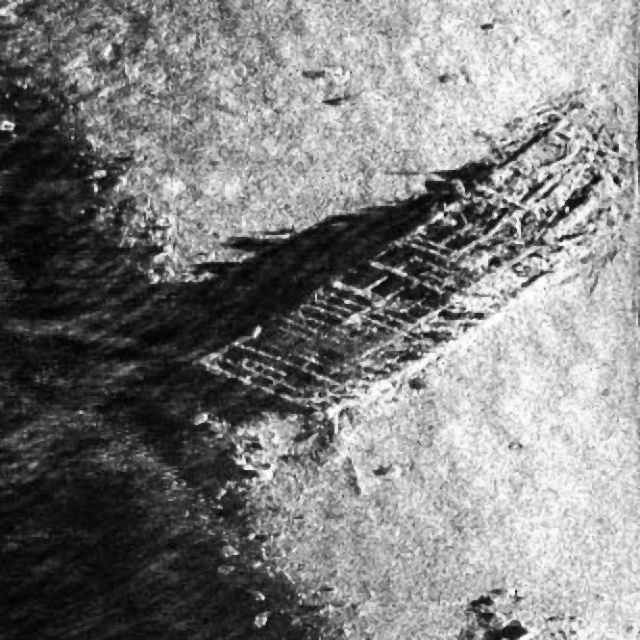Ship: (176, 80, 640, 431)
